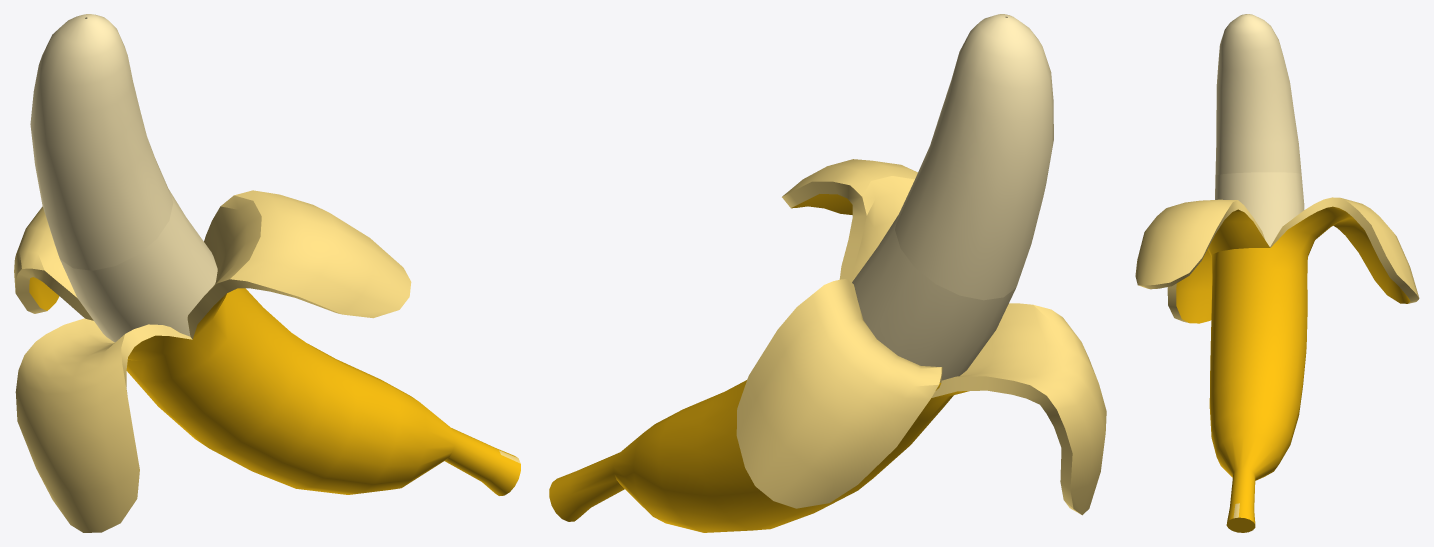
Rendered from banana.glb.
3 views of the same model, side by side, from view 1: azimuth 30°, elevation 25°; view 2: azimuth 150°, elevation 25°; view 3: azimuth 270°, elevation 25° (orthographic). The views are drawn at different scales.
Parts seen in each view (by area): view 1: Circle.028; view 2: Circle.028; view 3: Circle.028.
Boxes of the visible parts, bbox=[...] form: Circle.028: bbox=[14, 14, 520, 532]; Circle.028: bbox=[549, 14, 1106, 532]; Circle.028: bbox=[1135, 14, 1419, 532].
Bounding box in the file's own units: 2.03 × 2.24 × 1.5.
Materials: 1 (1 with a texture image).
